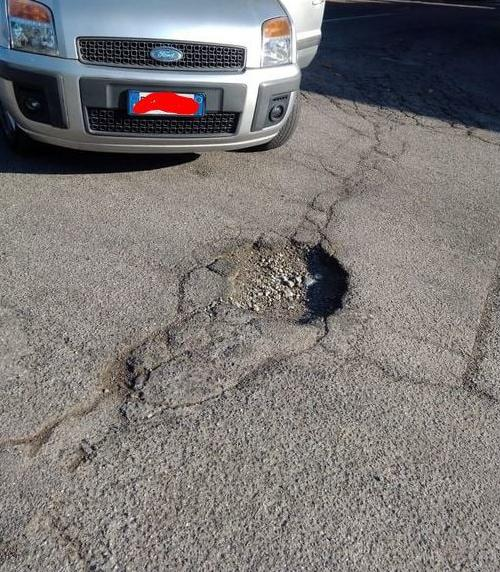pothole: (191, 222, 364, 343)
